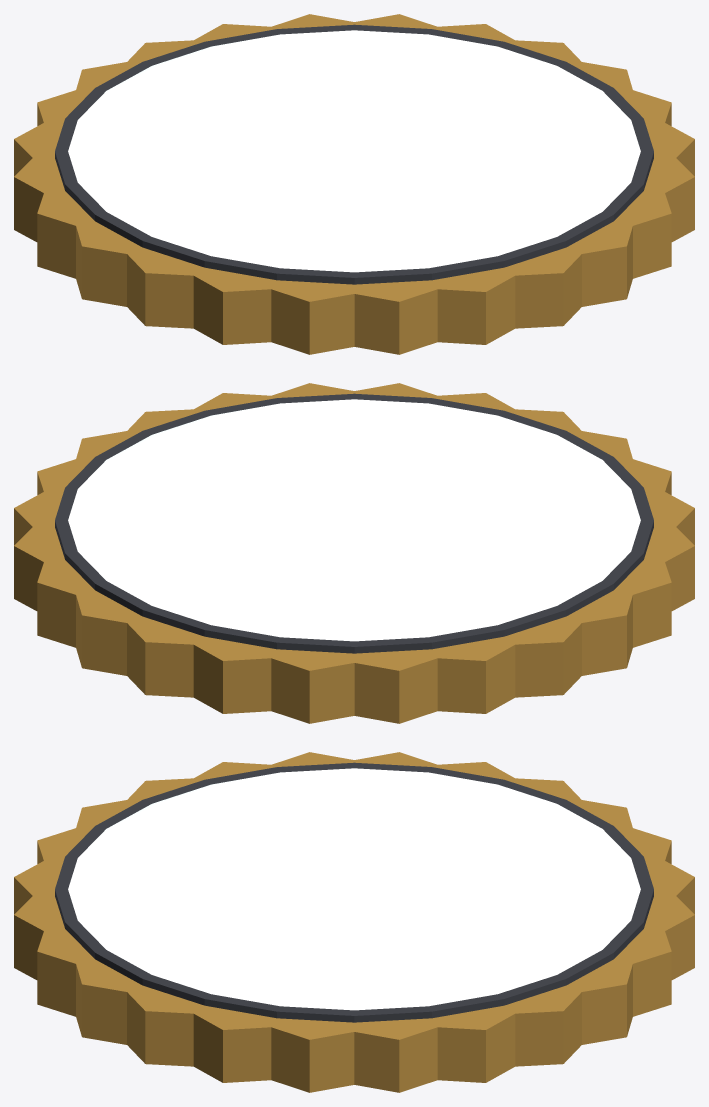
The model's file is lens_large.glb.
3 renders of one model, top to bottom at view 1: azimuth 30°, elevation 25°; view 2: azimuth 150°, elevation 25°; view 3: azimuth 270°, elevation 25°, orthographic.
Parts seen in each view (by area): view 1: Lens_Large_Glow_lens, Lens_Large_Brass, Lens_Large_Darksteel; view 2: Lens_Large_Glow_lens, Lens_Large_Brass, Lens_Large_Darksteel; view 3: Lens_Large_Glow_lens, Lens_Large_Brass, Lens_Large_Darksteel.
Part boxes in pixels (x1,y1,x2,y2): Lens_Large_Glow_lens: (68, 30, 640, 272); Lens_Large_Brass: (14, 14, 694, 354); Lens_Large_Darksteel: (55, 24, 653, 284); Lens_Large_Glow_lens: (68, 399, 640, 641); Lens_Large_Brass: (14, 383, 694, 723); Lens_Large_Darksteel: (55, 393, 653, 653); Lens_Large_Glow_lens: (68, 768, 640, 1010); Lens_Large_Brass: (14, 752, 694, 1092); Lens_Large_Darksteel: (55, 762, 653, 1022).
Bounding box in the file's own units: 0.0466 × 0.0072 × 0.0466.
